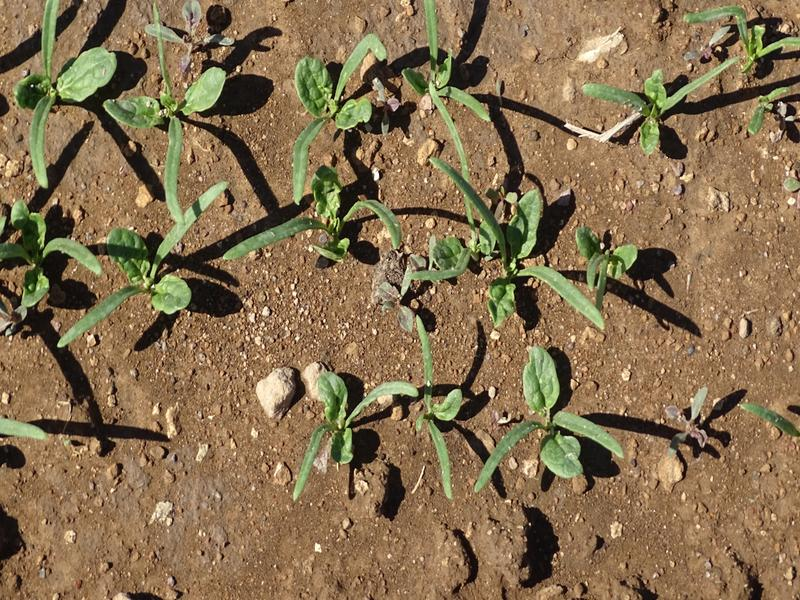Espinaca: (288, 331, 614, 487), (22, 1, 208, 201), (398, 165, 645, 310), (274, 6, 477, 161), (585, 4, 795, 147), (7, 202, 218, 344)
